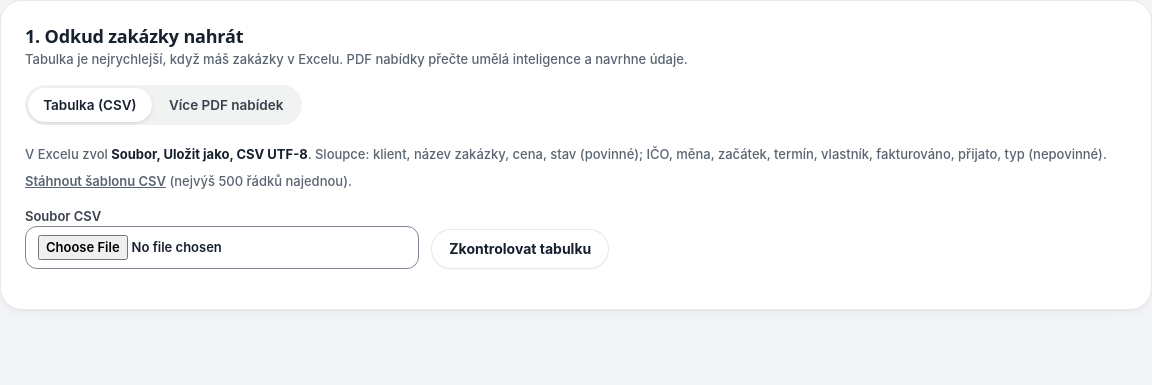
Test case: BulkImport: zdroje › správce vidí i technický důvod (chybějící klíč)
Click the button "Více PDF nabídek" at (226, 105), box x1=154 y1=88 x2=299 y2=122
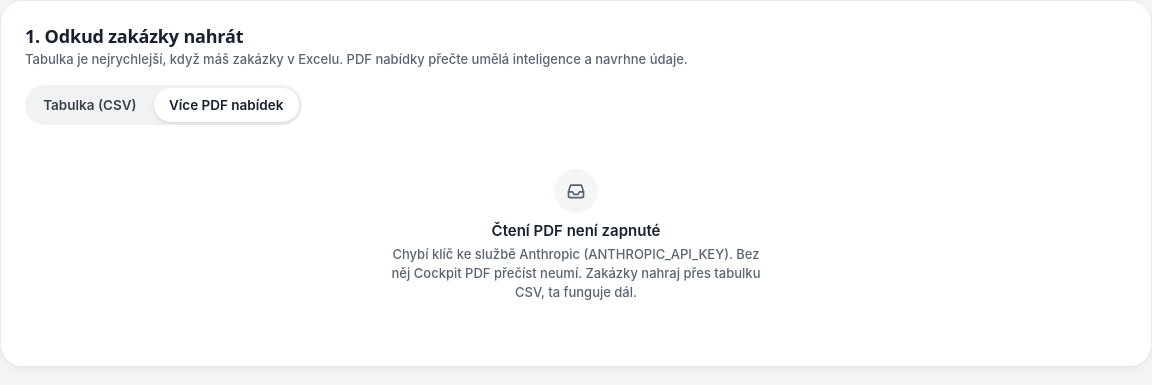
Expected: the text "ANTHROPIC_API_KEY" is shown, x1=392 y1=246 x2=760 y2=281
